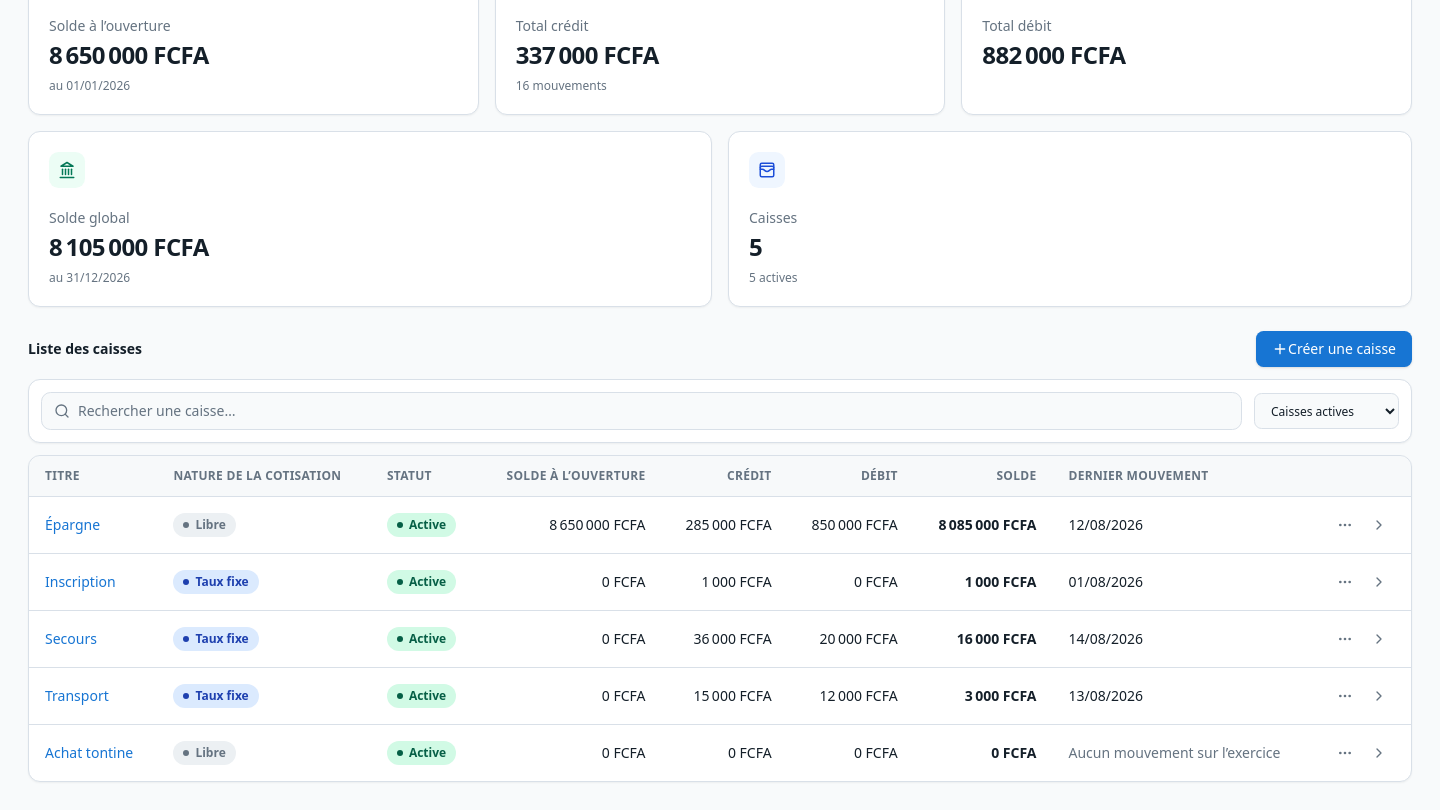
Test: Finance → Caisses — liste de navigation › la flèche ouvre la fiche de CETTE caisse, où Modifier / Supprimer sont regroupés dans le menu « ⋯ »
(page scrolled)
Click the button named "Voir le détail" in the row of "285 000 FCFA" at point(1379, 525), box [1363,509,1395,541]
(page scrolled)
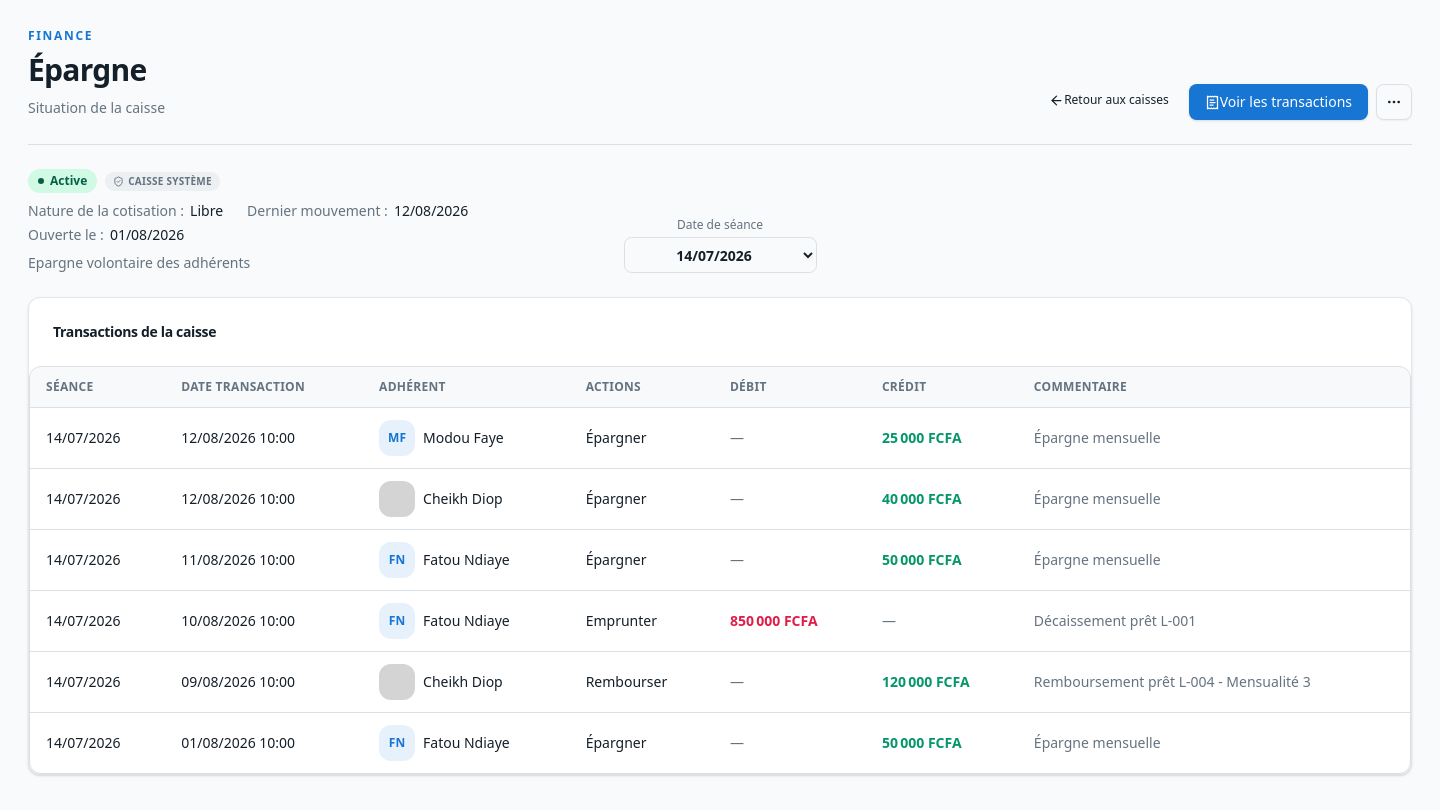
Expected: the heading "Épargne" is shown, [28,52,165,88]
Expected: the button named "Actions de la caisse" is shown, [1376,84,1412,120]
